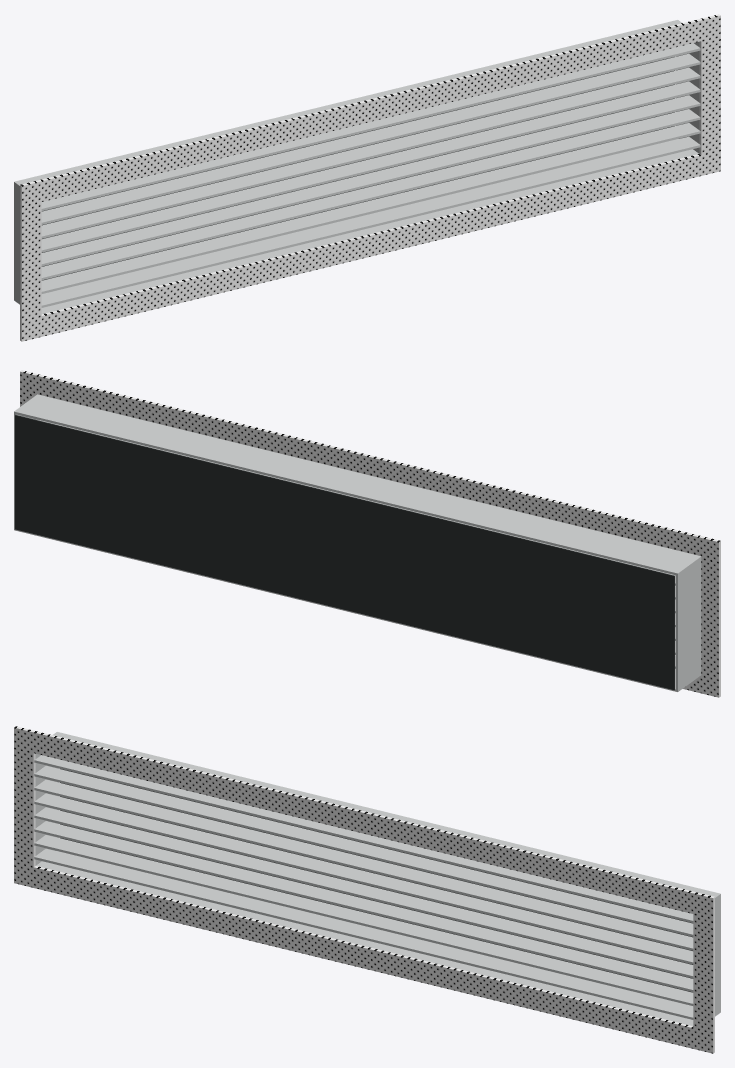
File: ecoclima-ebls-600x100.glb
3 renders of one model, top to bottom at view 1: azimuth 30°, elevation 25°; view 2: azimuth 150°, elevation 25°; view 3: azimuth 330°, elevation 25°, orthographic.
Visible parts, largest first — view 1: Profile_cornice, Profile_cornice.001, Profile_barra.006, Profile_barra.003, Profile_barra.004, Profile_barra.005, Profile_barra, Profile_barra.002, Profile_barra.001, Profile_barra.007, Profile_ritorno.001, Interno (+5 smaller); view 2: Interno, Profile_ritorno, Profile_cornice, Profile_ritorno.002, Profile_cornice.002, Profile_ritorno.001, Profile_barra.006, Profile_cornice.001; view 3: Profile_cornice, Profile_cornice.001, Profile_barra.006, Profile_barra.003, Profile_barra.004, Profile_barra.005, Profile_barra, Profile_barra.002, Profile_barra.001, Profile_barra.007, Profile_ritorno.001, Interno (+5 smaller).
Part boxes in pixels (x1,y1,x2,y2): Profile_cornice: (20, 14, 720, 206); Profile_cornice.001: (20, 150, 720, 341); Profile_barra.006: (41, 53, 700, 224); Profile_barra.003: (41, 95, 700, 266); Profile_barra.004: (41, 81, 700, 252); Profile_barra.005: (41, 67, 700, 238); Profile_barra: (41, 136, 700, 307); Profile_barra.002: (41, 109, 700, 280); Profile_barra.001: (41, 123, 700, 293); Profile_barra.007: (41, 43, 700, 210); Profile_ritorno.001: (14, 139, 698, 313); Interno: (42, 57, 674, 280); Interno: (15, 415, 674, 690); Profile_ritorno: (14, 394, 701, 575); Profile_cornice: (20, 370, 720, 562); Profile_ritorno.002: (675, 559, 701, 689); Profile_cornice.002: (701, 558, 720, 676); Profile_ritorno.001: (14, 528, 701, 691); Profile_barra.006: (37, 420, 675, 585); Profile_cornice.001: (683, 672, 720, 697); Profile_cornice: (14, 726, 714, 918); Profile_cornice.001: (14, 862, 714, 1053); Profile_barra.006: (34, 765, 693, 936); Profile_barra.003: (34, 807, 693, 978); Profile_barra.004: (34, 793, 693, 964); Profile_barra.005: (34, 779, 693, 950); Profile_barra: (34, 848, 693, 1019); Profile_barra.002: (34, 821, 693, 992); Profile_barra.001: (34, 835, 693, 1005); Profile_barra.007: (34, 755, 693, 922); Profile_ritorno.001: (36, 851, 720, 1025); Interno: (60, 769, 692, 992).
Size of the model in its own units: 0.635 by 0.135 by 0.042.
3 materials, 1 textured.
